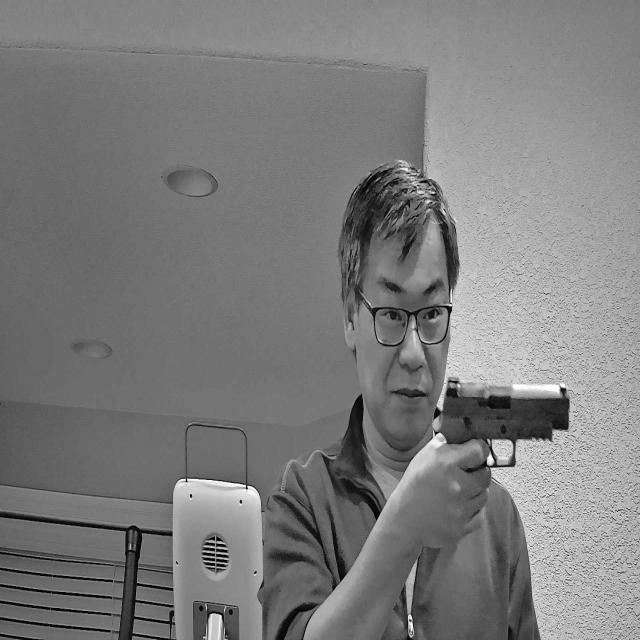Hand-Gun: (428, 375, 572, 525)
